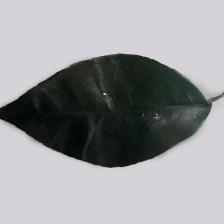healthy: (7, 66, 201, 168)
